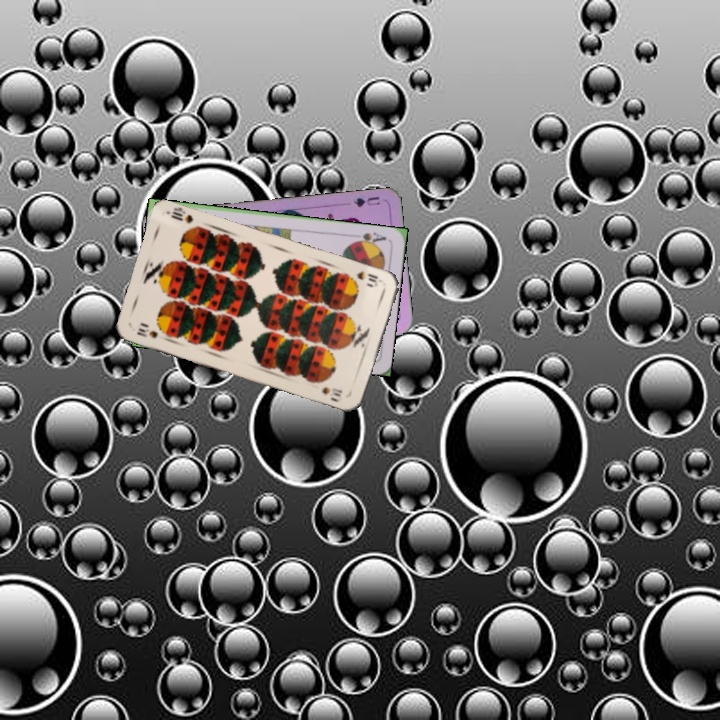GU: (350, 192, 382, 210)
S10: (352, 267, 381, 289), (132, 321, 160, 341)
SA: (349, 228, 389, 248)
